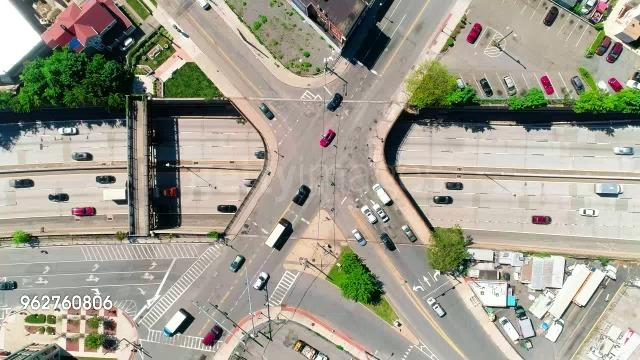car: (424, 296, 448, 320), (200, 325, 226, 347), (370, 184, 396, 204), (292, 184, 312, 208), (358, 203, 379, 225), (400, 224, 422, 244), (251, 271, 269, 295), (536, 74, 556, 94), (351, 229, 372, 247), (570, 76, 588, 96), (379, 233, 398, 251), (326, 94, 344, 112), (373, 205, 391, 223), (502, 76, 518, 96), (480, 77, 496, 97), (610, 144, 636, 156), (466, 20, 480, 42), (542, 5, 556, 27), (230, 254, 246, 272), (318, 130, 336, 146), (260, 103, 276, 121), (452, 80, 470, 96), (597, 35, 611, 55), (70, 207, 98, 217), (8, 178, 34, 188), (606, 77, 622, 93), (46, 192, 70, 202), (432, 196, 454, 206), (580, 208, 602, 218), (610, 42, 620, 64), (71, 152, 93, 162), (444, 182, 464, 192), (530, 215, 550, 225), (216, 205, 238, 213), (94, 175, 115, 183), (256, 150, 270, 162), (59, 127, 80, 134), (245, 176, 259, 186), (0, 282, 18, 289)
truck: (104, 187, 180, 201), (265, 215, 291, 255), (163, 310, 194, 340), (514, 306, 538, 338), (499, 318, 523, 342)
